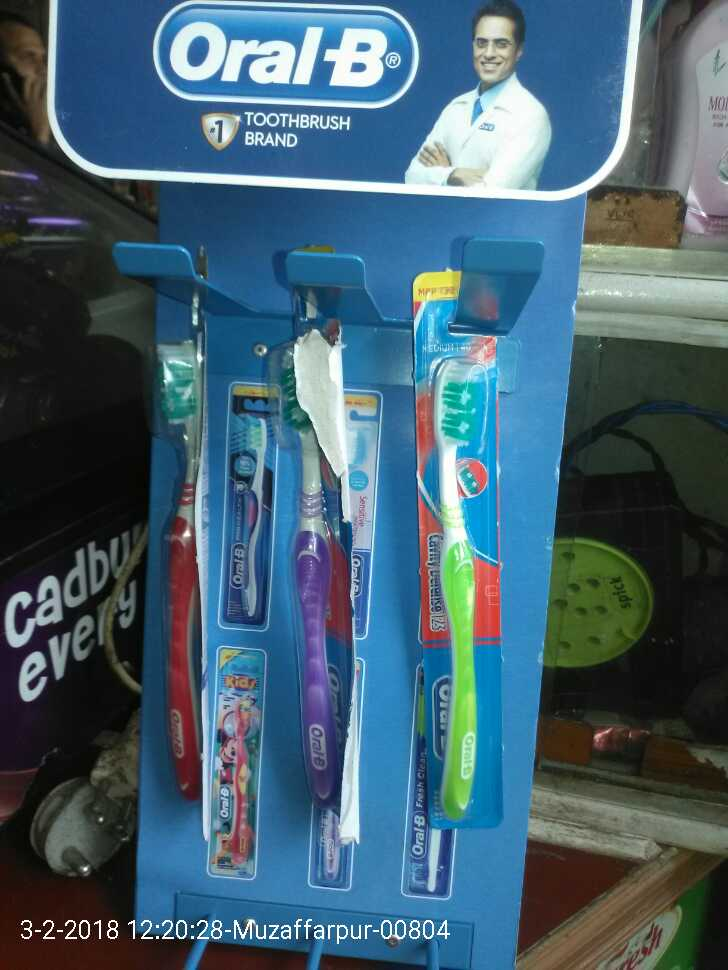oralb: (271, 301, 369, 821), (136, 277, 228, 824), (417, 307, 497, 847)
